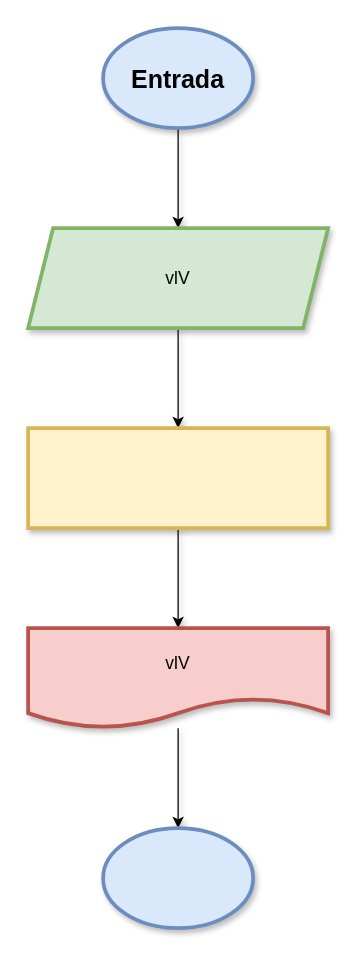
Some shapes in this 359 by 960 pixel diagram are drawn without their labels. Each missing label, with the centre of its shape:
"imposto <- vlf+(vlF*45/100) vlV <- imposto+(imposto*28/100)" belongs at point 179,479.
"Saída" belongs at point 179,879.
